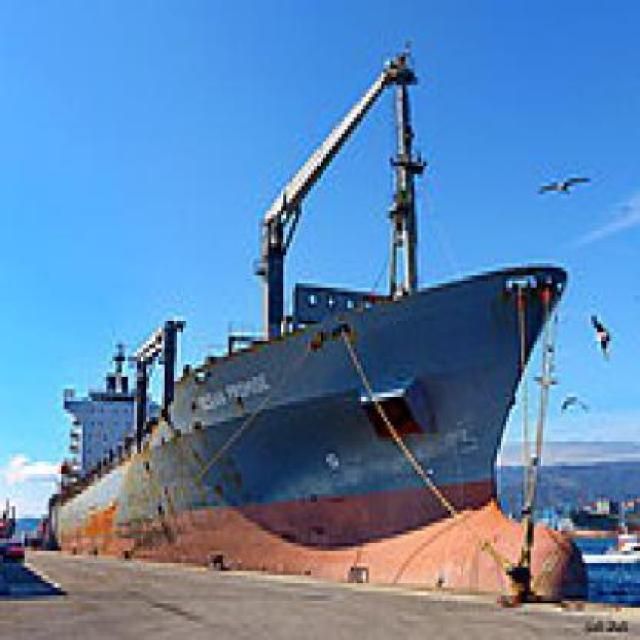container: (34, 21, 602, 621)
